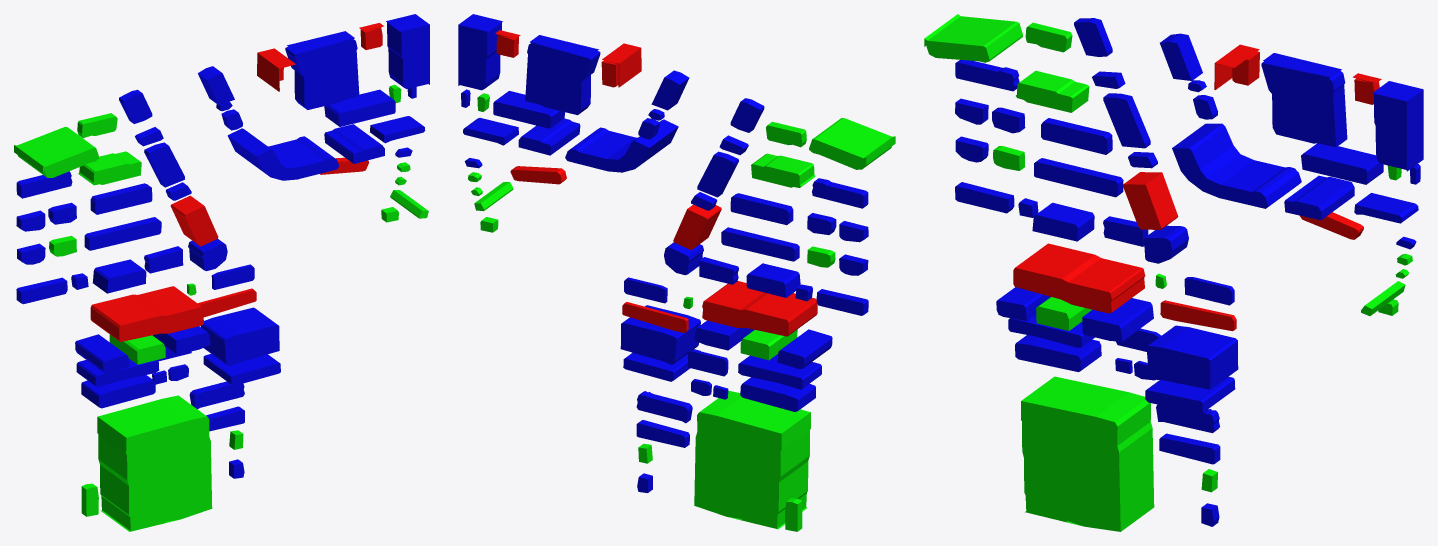
3 renders of one model, left to right at view 1: azimuth 30°, elevation 25°; view 2: azimuth 150°, elevation 25°; view 3: azimuth 330°, elevation 25°, orthographic. The views are drawn at different scales.
Visible parts, largest first — view 1: building_56, building_2, building_42, building_19, building_48, building_4, building_9, building_17, building_51, building_20, building_13, building_52 (+28 smaller); view 2: building_56, building_2, building_42, building_19, building_4, building_9, building_48, building_49, building_51, building_13, building_17, building_31 (+29 smaller); view 3: building_56, building_2, building_19, building_42, building_48, building_4, building_9, building_27, building_17, building_13, building_51, building_20 (+30 smaller).
Boxes of the visible parts, x1,y1,x2,y2 form: building_56: (97, 395, 212, 531); building_2: (285, 31, 359, 109); building_42: (90, 286, 204, 341); building_19: (227, 128, 339, 180); building_48: (201, 307, 279, 366); building_4: (386, 14, 429, 88); building_9: (14, 127, 99, 177); building_17: (324, 89, 395, 126); building_51: (81, 375, 155, 408); building_20: (324, 124, 384, 163); building_13: (78, 151, 141, 185); building_52: (203, 354, 280, 385); building_56: (694, 390, 810, 529); building_2: (525, 35, 600, 115); building_42: (702, 281, 817, 336); building_19: (565, 119, 678, 172); building_4: (458, 14, 502, 90); building_9: (809, 118, 895, 169); building_48: (620, 305, 700, 364); building_49: (738, 354, 821, 389); building_51: (740, 377, 815, 411); building_13: (751, 153, 815, 187); building_17: (493, 91, 564, 128); building_31: (721, 227, 799, 261); building_56: (1021, 376, 1154, 531); building_2: (1261, 53, 1347, 147); building_19: (1172, 123, 1301, 208); building_42: (1013, 243, 1145, 313); building_48: (1146, 325, 1238, 389); building_4: (1373, 81, 1423, 171); building_9: (924, 14, 1022, 62); building_27: (1123, 172, 1178, 229); building_17: (1301, 143, 1383, 184); building_13: (1016, 70, 1089, 112); building_51: (1015, 335, 1101, 372); building_20: (1284, 175, 1354, 220).
Size of the model in its own units: 2047 by 2047 by 255.
